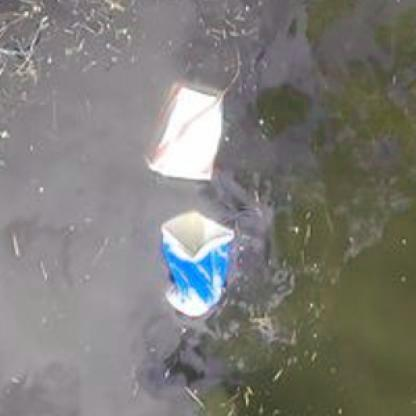Plastic: (140, 80, 229, 185), (158, 210, 237, 319)
